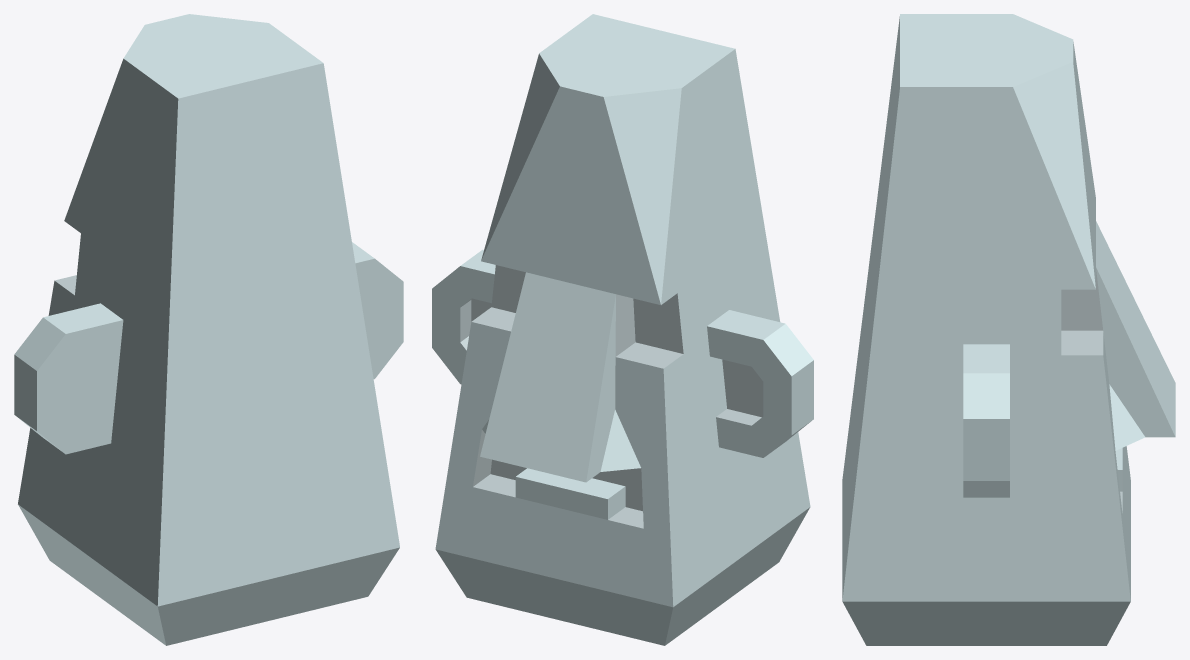
File: statue_head.glb
3 renders of one model, left to right at view 1: azimuth 30°, elevation 25°; view 2: azimuth 150°, elevation 25°; view 3: azimuth 270°, elevation 25°, orthographic. The views are drawn at different scales.
Visible parts, largest first — view 1: statue_head; view 2: statue_head; view 3: statue_head.
Boxes of the visible parts, x1,y1,x2,y2 form: statue_head: (14,14,403,645); statue_head: (432,14,813,645); statue_head: (842,14,1175,645).
Size of the model in its own units: 0.726 by 1 by 0.5544.
1 material, 1 textured.
